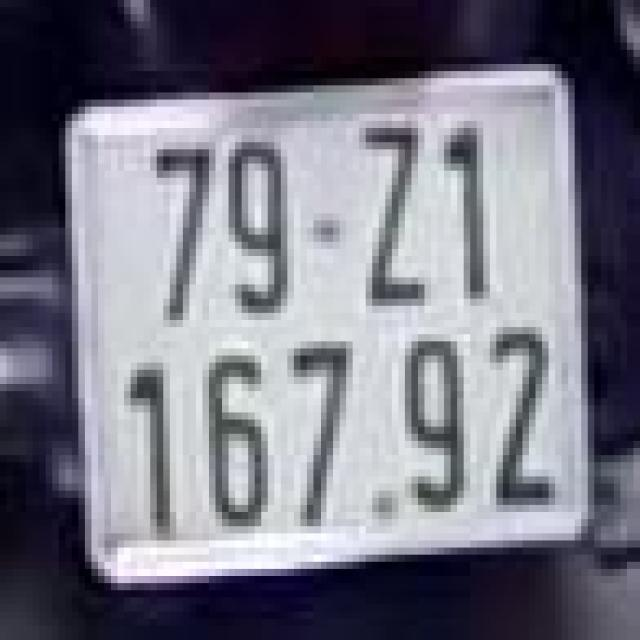1: (114, 356, 186, 540), (441, 110, 506, 310)
2: (483, 320, 568, 512)
6: (196, 342, 274, 534)
7: (284, 334, 356, 540), (137, 142, 216, 327)
9: (392, 330, 470, 522), (232, 146, 304, 316)
Z: (352, 107, 438, 313)
